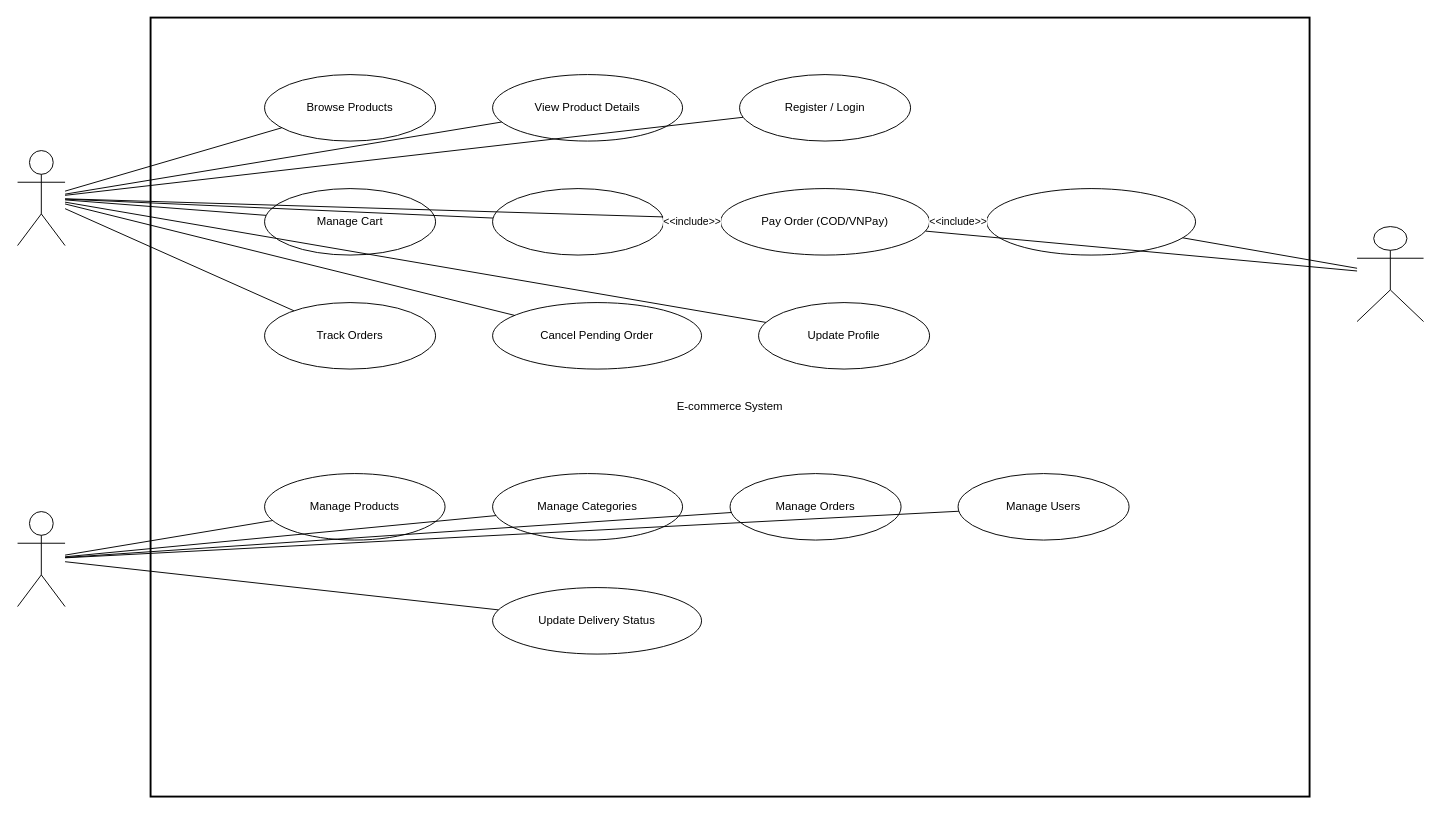
This 1448x813 diagram has some shape labels left out. Here are the shapes that lost their labels. From the top down, the box of each, then its label:
(17, 150, 65, 246): Customer
(492, 188, 664, 255): Checkout
(986, 188, 1196, 255): Verify Payment Result
(1356, 226, 1424, 322): VNPay Gateway
(17, 511, 65, 607): Admin
